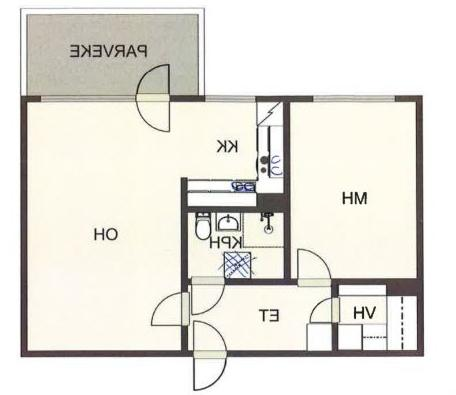bathroom: (187, 213, 284, 280)
door: (134, 94, 174, 135), (148, 291, 192, 328), (134, 63, 173, 101), (189, 276, 227, 315), (294, 247, 333, 283), (191, 351, 226, 391), (192, 320, 227, 358), (305, 294, 340, 324)
perimeter: (19, 94, 425, 358)
window: (309, 92, 399, 105), (35, 94, 139, 104), (201, 92, 260, 106)
